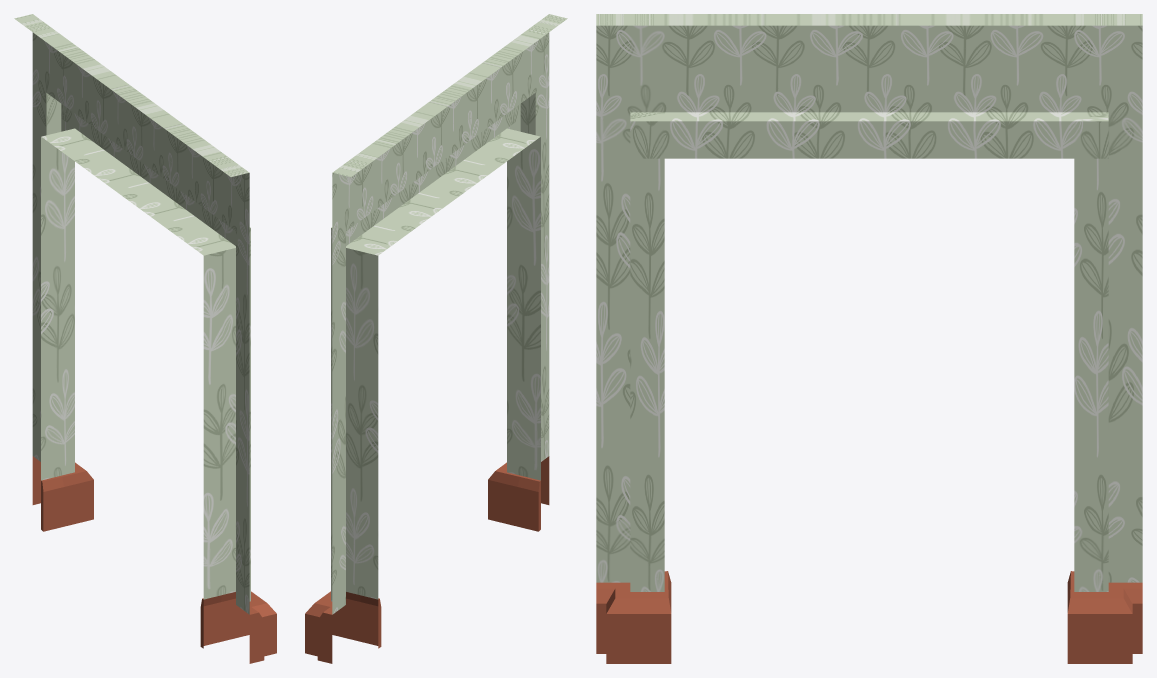
Rendered from Doorway_Inside_unfolded.fbx.
3 views of the same model, side by side, from view 1: azimuth 30°, elevation 25°; view 2: azimuth 150°, elevation 25°; view 3: azimuth 270°, elevation 25° (orthographic). The views are drawn at different scales.
Parts seen in each view (by area): view 1: Wall_Outside_WindowBig.003; view 2: Wall_Outside_WindowBig.003; view 3: Wall_Outside_WindowBig.003.
Part boxes in pixels (box(x1,y1,x2,y2)): Wall_Outside_WindowBig.003: box(14, 14, 276, 663); Wall_Outside_WindowBig.003: box(305, 14, 567, 663); Wall_Outside_WindowBig.003: box(596, 14, 1142, 663).
Bounding box in the file's own units: 26.91 × 250 × 200.
